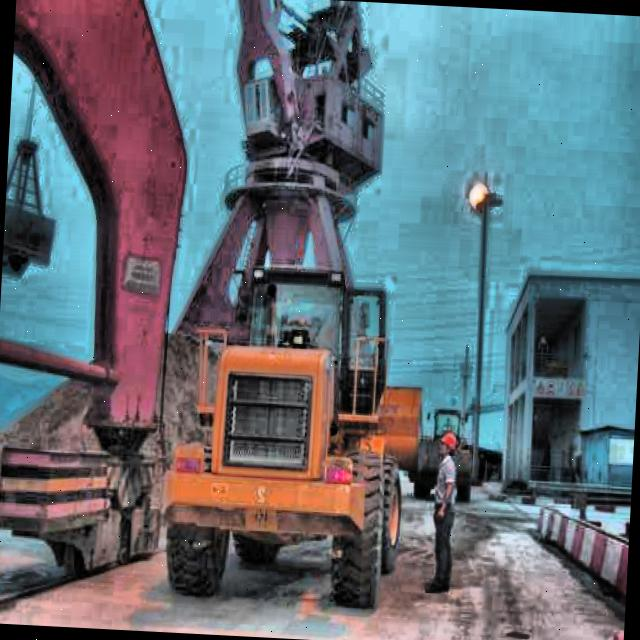helmet: (437, 428, 459, 462)
